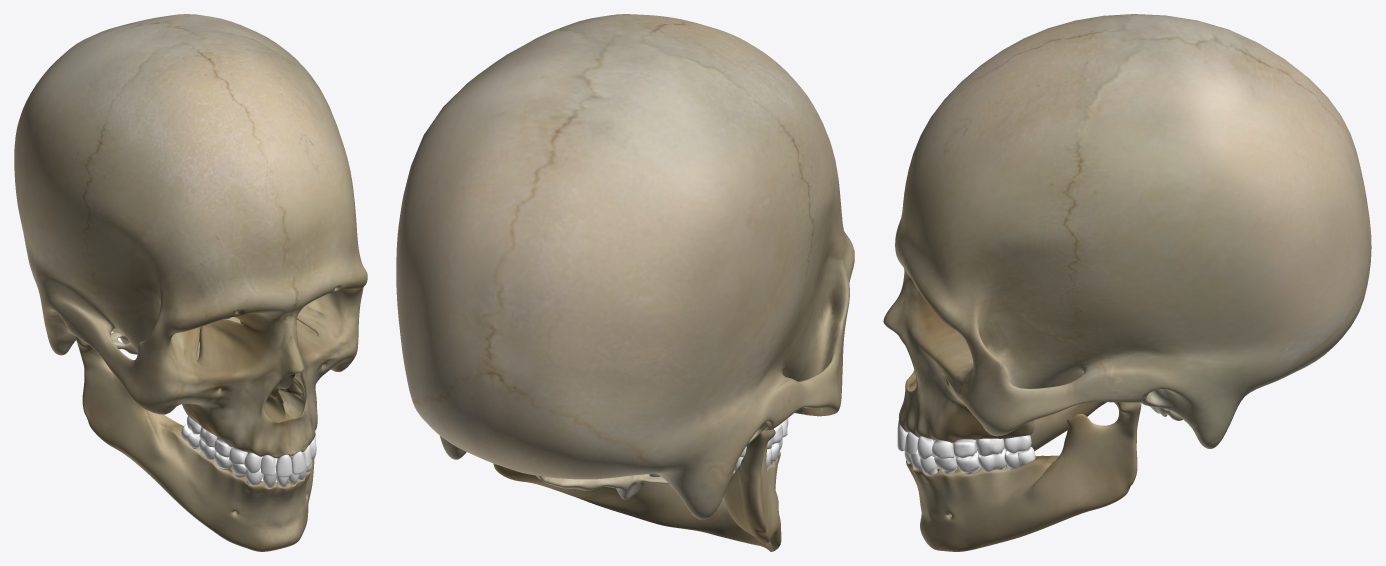
Rendered from manya-skull.glb.
3 views of the same model, side by side, from view 1: azimuth 30°, elevation 25°; view 2: azimuth 150°, elevation 25°; view 3: azimuth 270°, elevation 25° (orthographic). The views are drawn at different scales.
Parts seen in each view (by area): view 1: Male_Skeletal_Skull_Geo_skull bones_0, Male_Skeletal_Mandible_Geo_jawbones_0; view 2: Male_Skeletal_Skull_Geo_skull bones_0, Male_Skeletal_Mandible_Geo_jawbones_0, Male_Skeletal_Atlas_Geo_bones back_0; view 3: Male_Skeletal_Skull_Geo_skull bones_0, Male_Skeletal_Mandible_Geo_jawbones_0.
Part boxes in pixels (left/top/right/bottom): Male_Skeletal_Skull_Geo_skull bones_0: left=14, top=14, right=367, bottom=458; Male_Skeletal_Mandible_Geo_jawbones_0: left=76, top=336, right=314, bottom=551; Male_Skeletal_Skull_Geo_skull bones_0: left=396, top=14, right=854, bottom=519; Male_Skeletal_Mandible_Geo_jawbones_0: left=493, top=429, right=781, bottom=551; Male_Skeletal_Atlas_Geo_bones back_0: left=536, top=473, right=668, bottom=499; Male_Skeletal_Skull_Geo_skull bones_0: left=883, top=14, right=1371, bottom=448; Male_Skeletal_Mandible_Geo_jawbones_0: left=906, top=402, right=1141, bottom=551.
Bounding box in the file's own units: 13.87 × 22.65 × 19.79.
4 materials, 3 textured.
